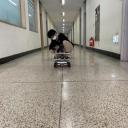cart: (53, 53, 71, 67)
